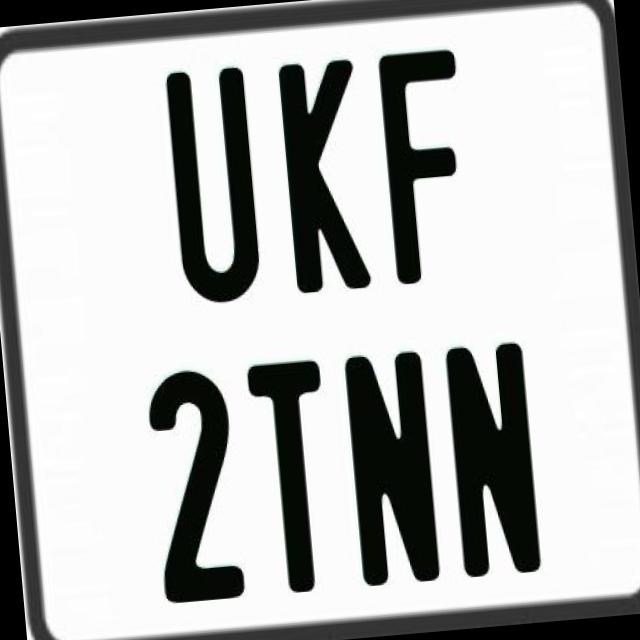2: (144, 365, 252, 607)
F: (376, 46, 474, 292)
K: (278, 56, 372, 300)
N: (342, 346, 446, 584), (443, 338, 542, 584)
T: (246, 357, 345, 592)
U: (163, 66, 261, 306)
